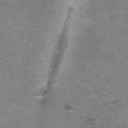finishing roll printing: (36, 7, 73, 100), (64, 105, 74, 112), (86, 117, 95, 124), (111, 100, 120, 104)
